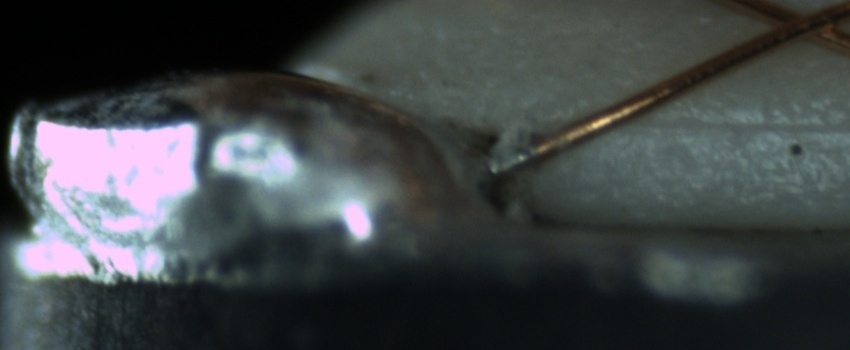CL: (753, 1, 843, 47)
DL: (623, 94, 846, 153)
TS: (486, 141, 540, 177)
